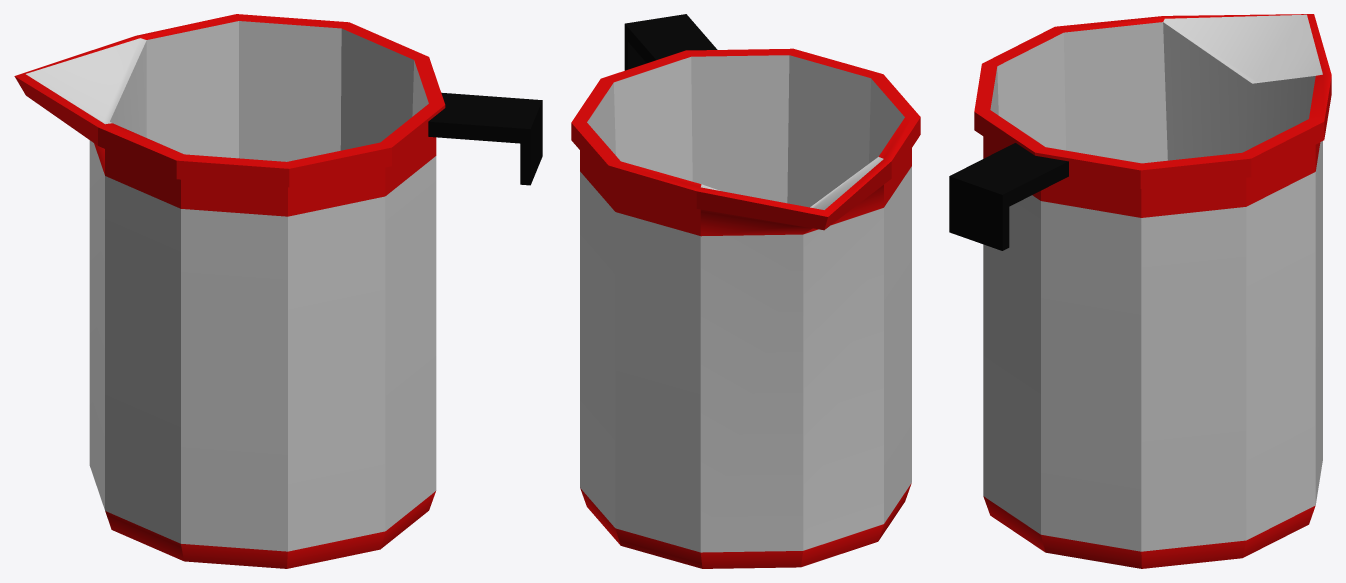
The model's file is Medidor_02.fbx.
3 views of the same model, side by side, from view 1: azimuth 30°, elevation 25°; view 2: azimuth 150°, elevation 25°; view 3: azimuth 270°, elevation 25° (orthographic). The views are drawn at different scales.
Parts seen in each view (by area): view 1: pCylinder18; view 2: pCylinder18; view 3: pCylinder18.
Part boxes in pixels (x1,y1,x2,y2): pCylinder18: (14, 14, 542, 568); pCylinder18: (571, 14, 920, 568); pCylinder18: (949, 14, 1331, 568).
Bounding box in the file's own units: 0.223 × 0.2333 × 0.1995.
